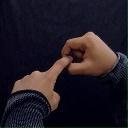hand: (10, 54, 73, 111), (60, 31, 117, 77)
